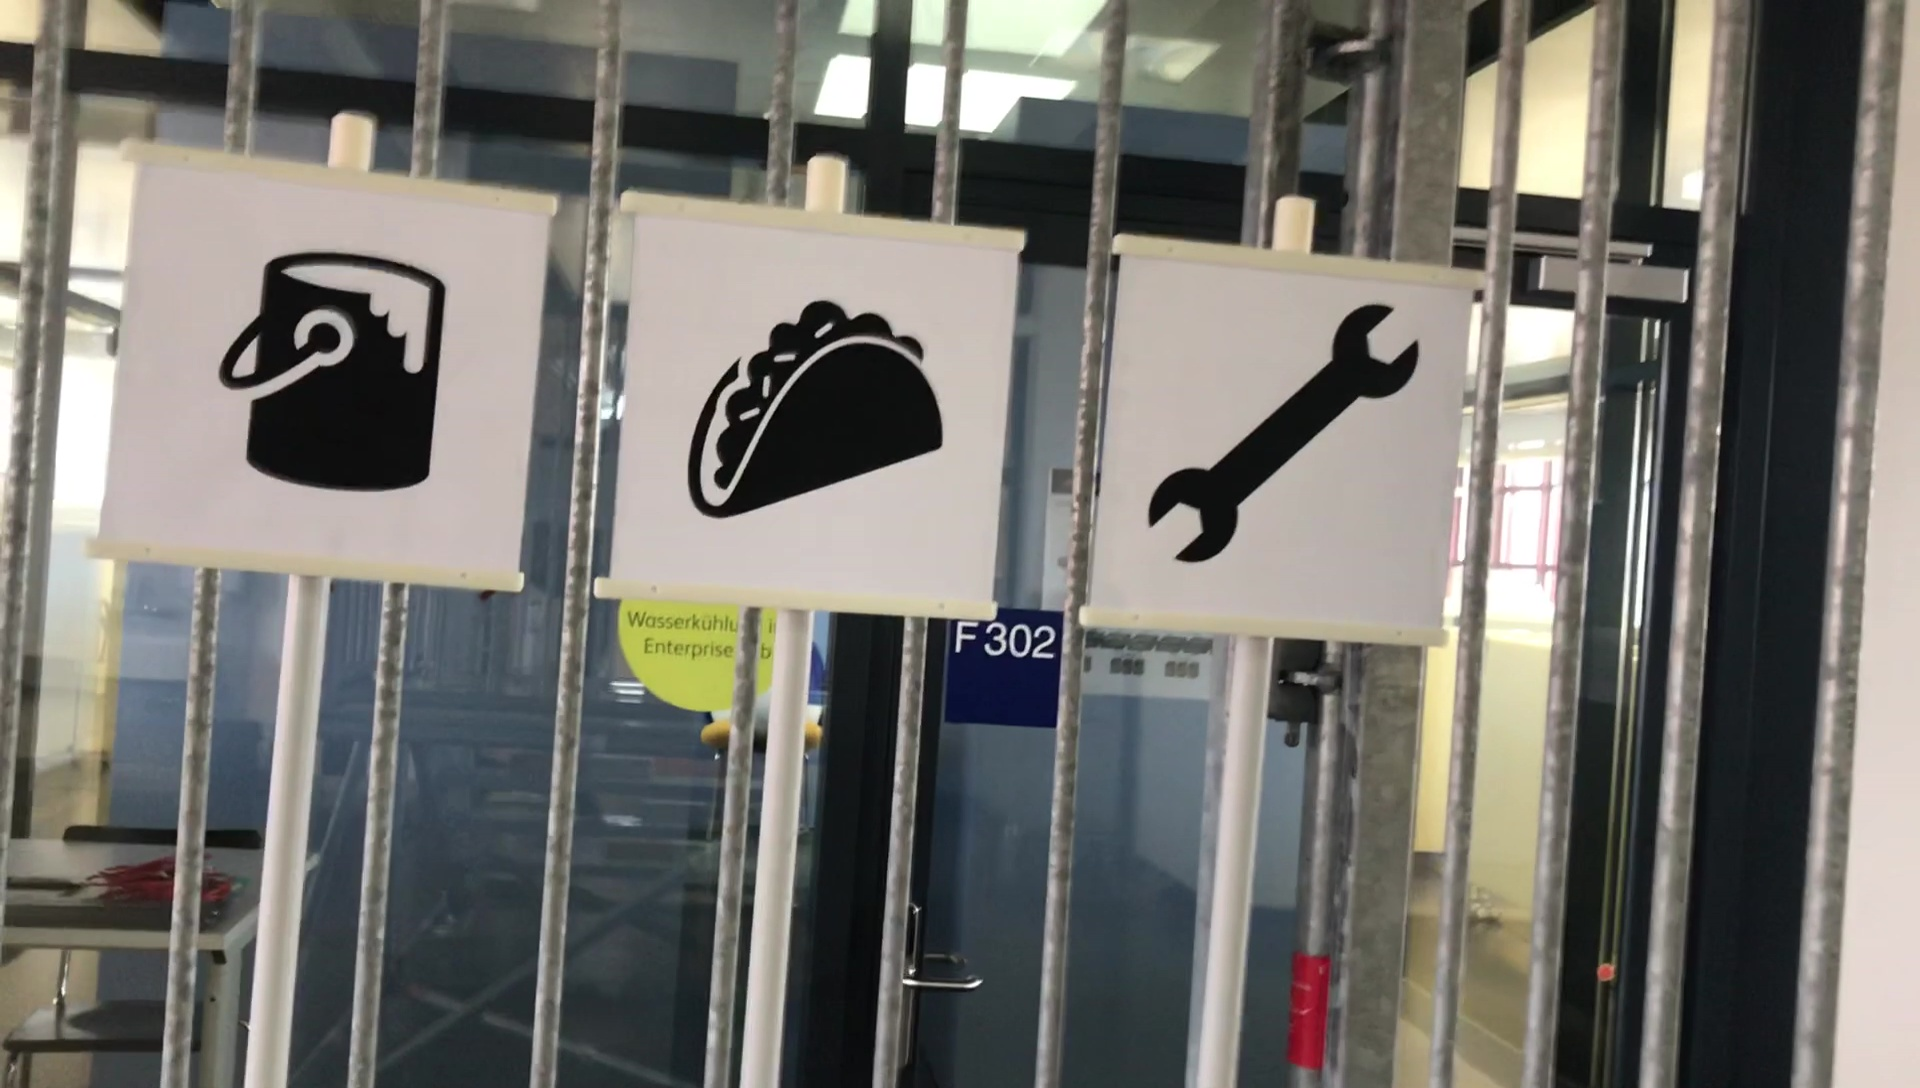bucket: (214, 239, 458, 495)
taco: (682, 291, 964, 528)
wrench: (1142, 295, 1428, 572)
